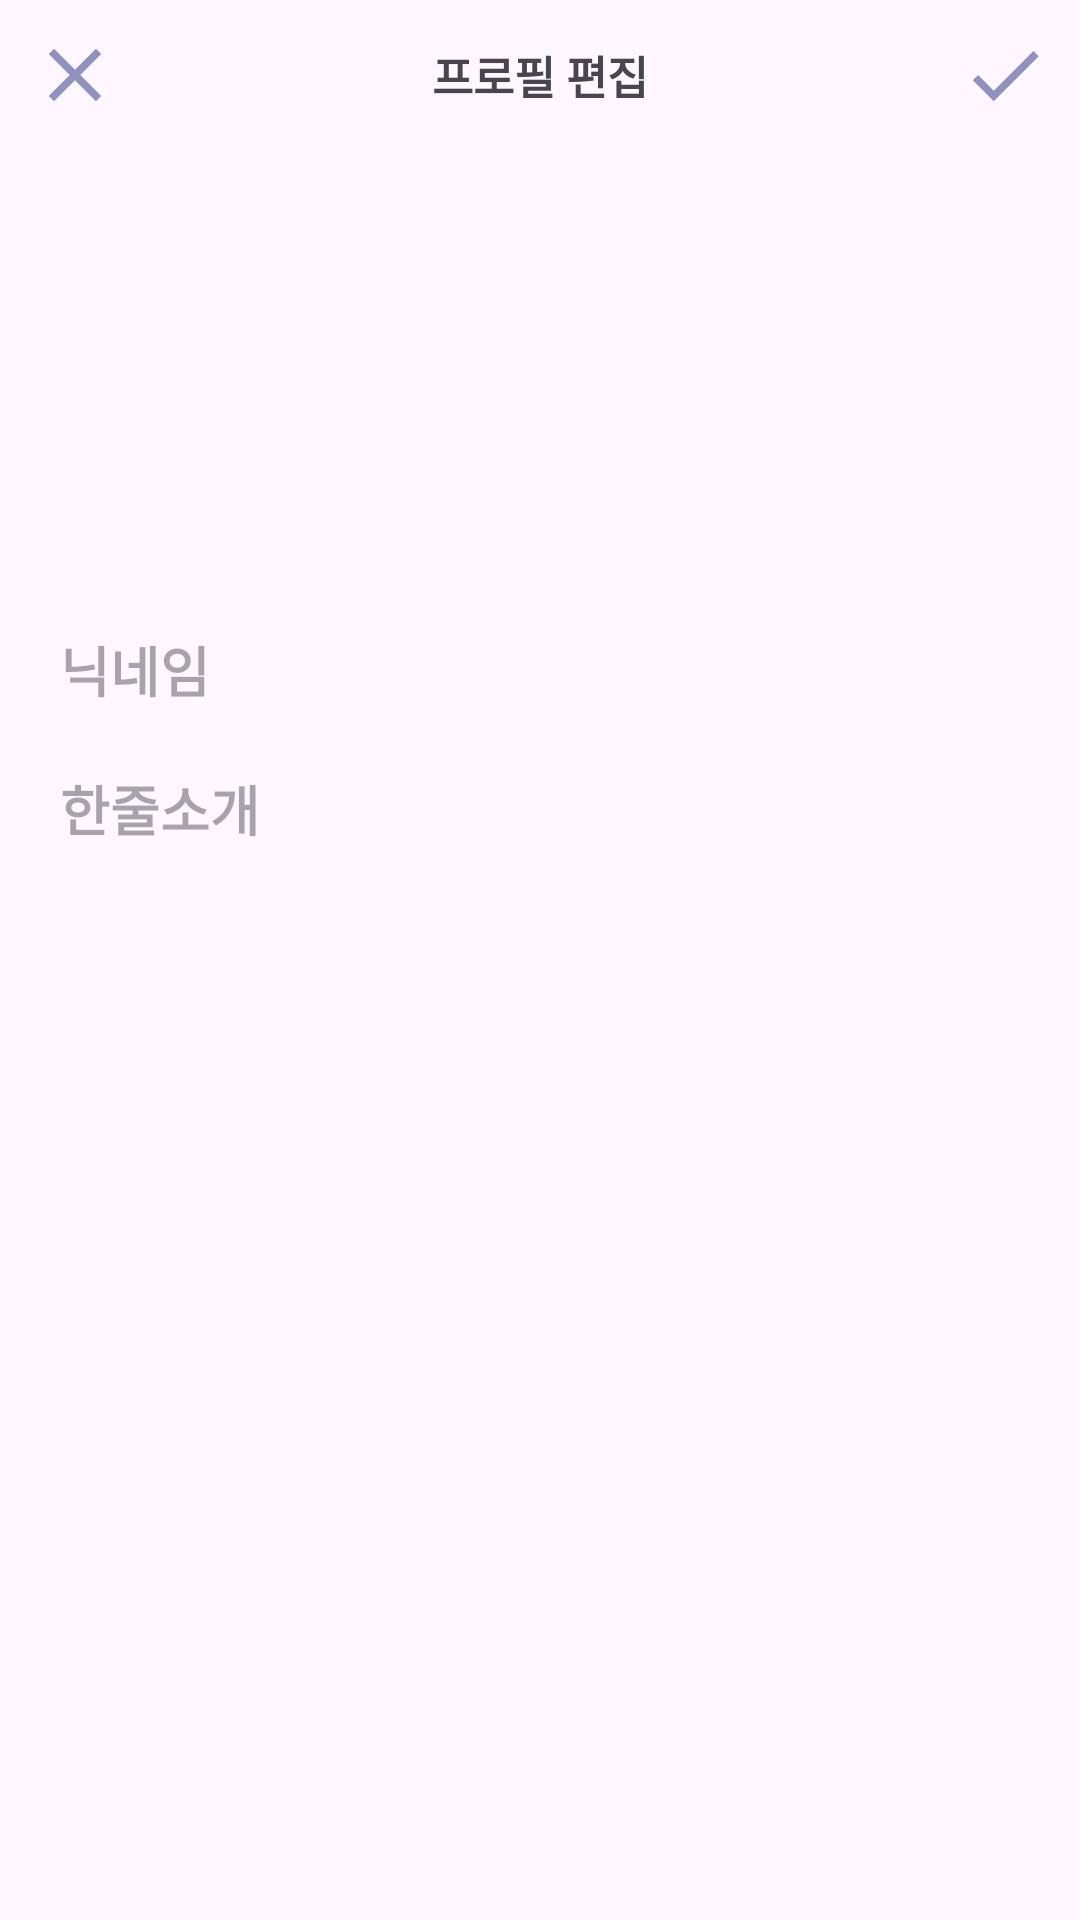

Locate icon controls on the screen. Image size 1080×1920, boxes as bbox=(x1, y1, x2, y2).
cancel: bbox=(49, 49, 101, 101)
success: bbox=(973, 51, 1039, 101)
